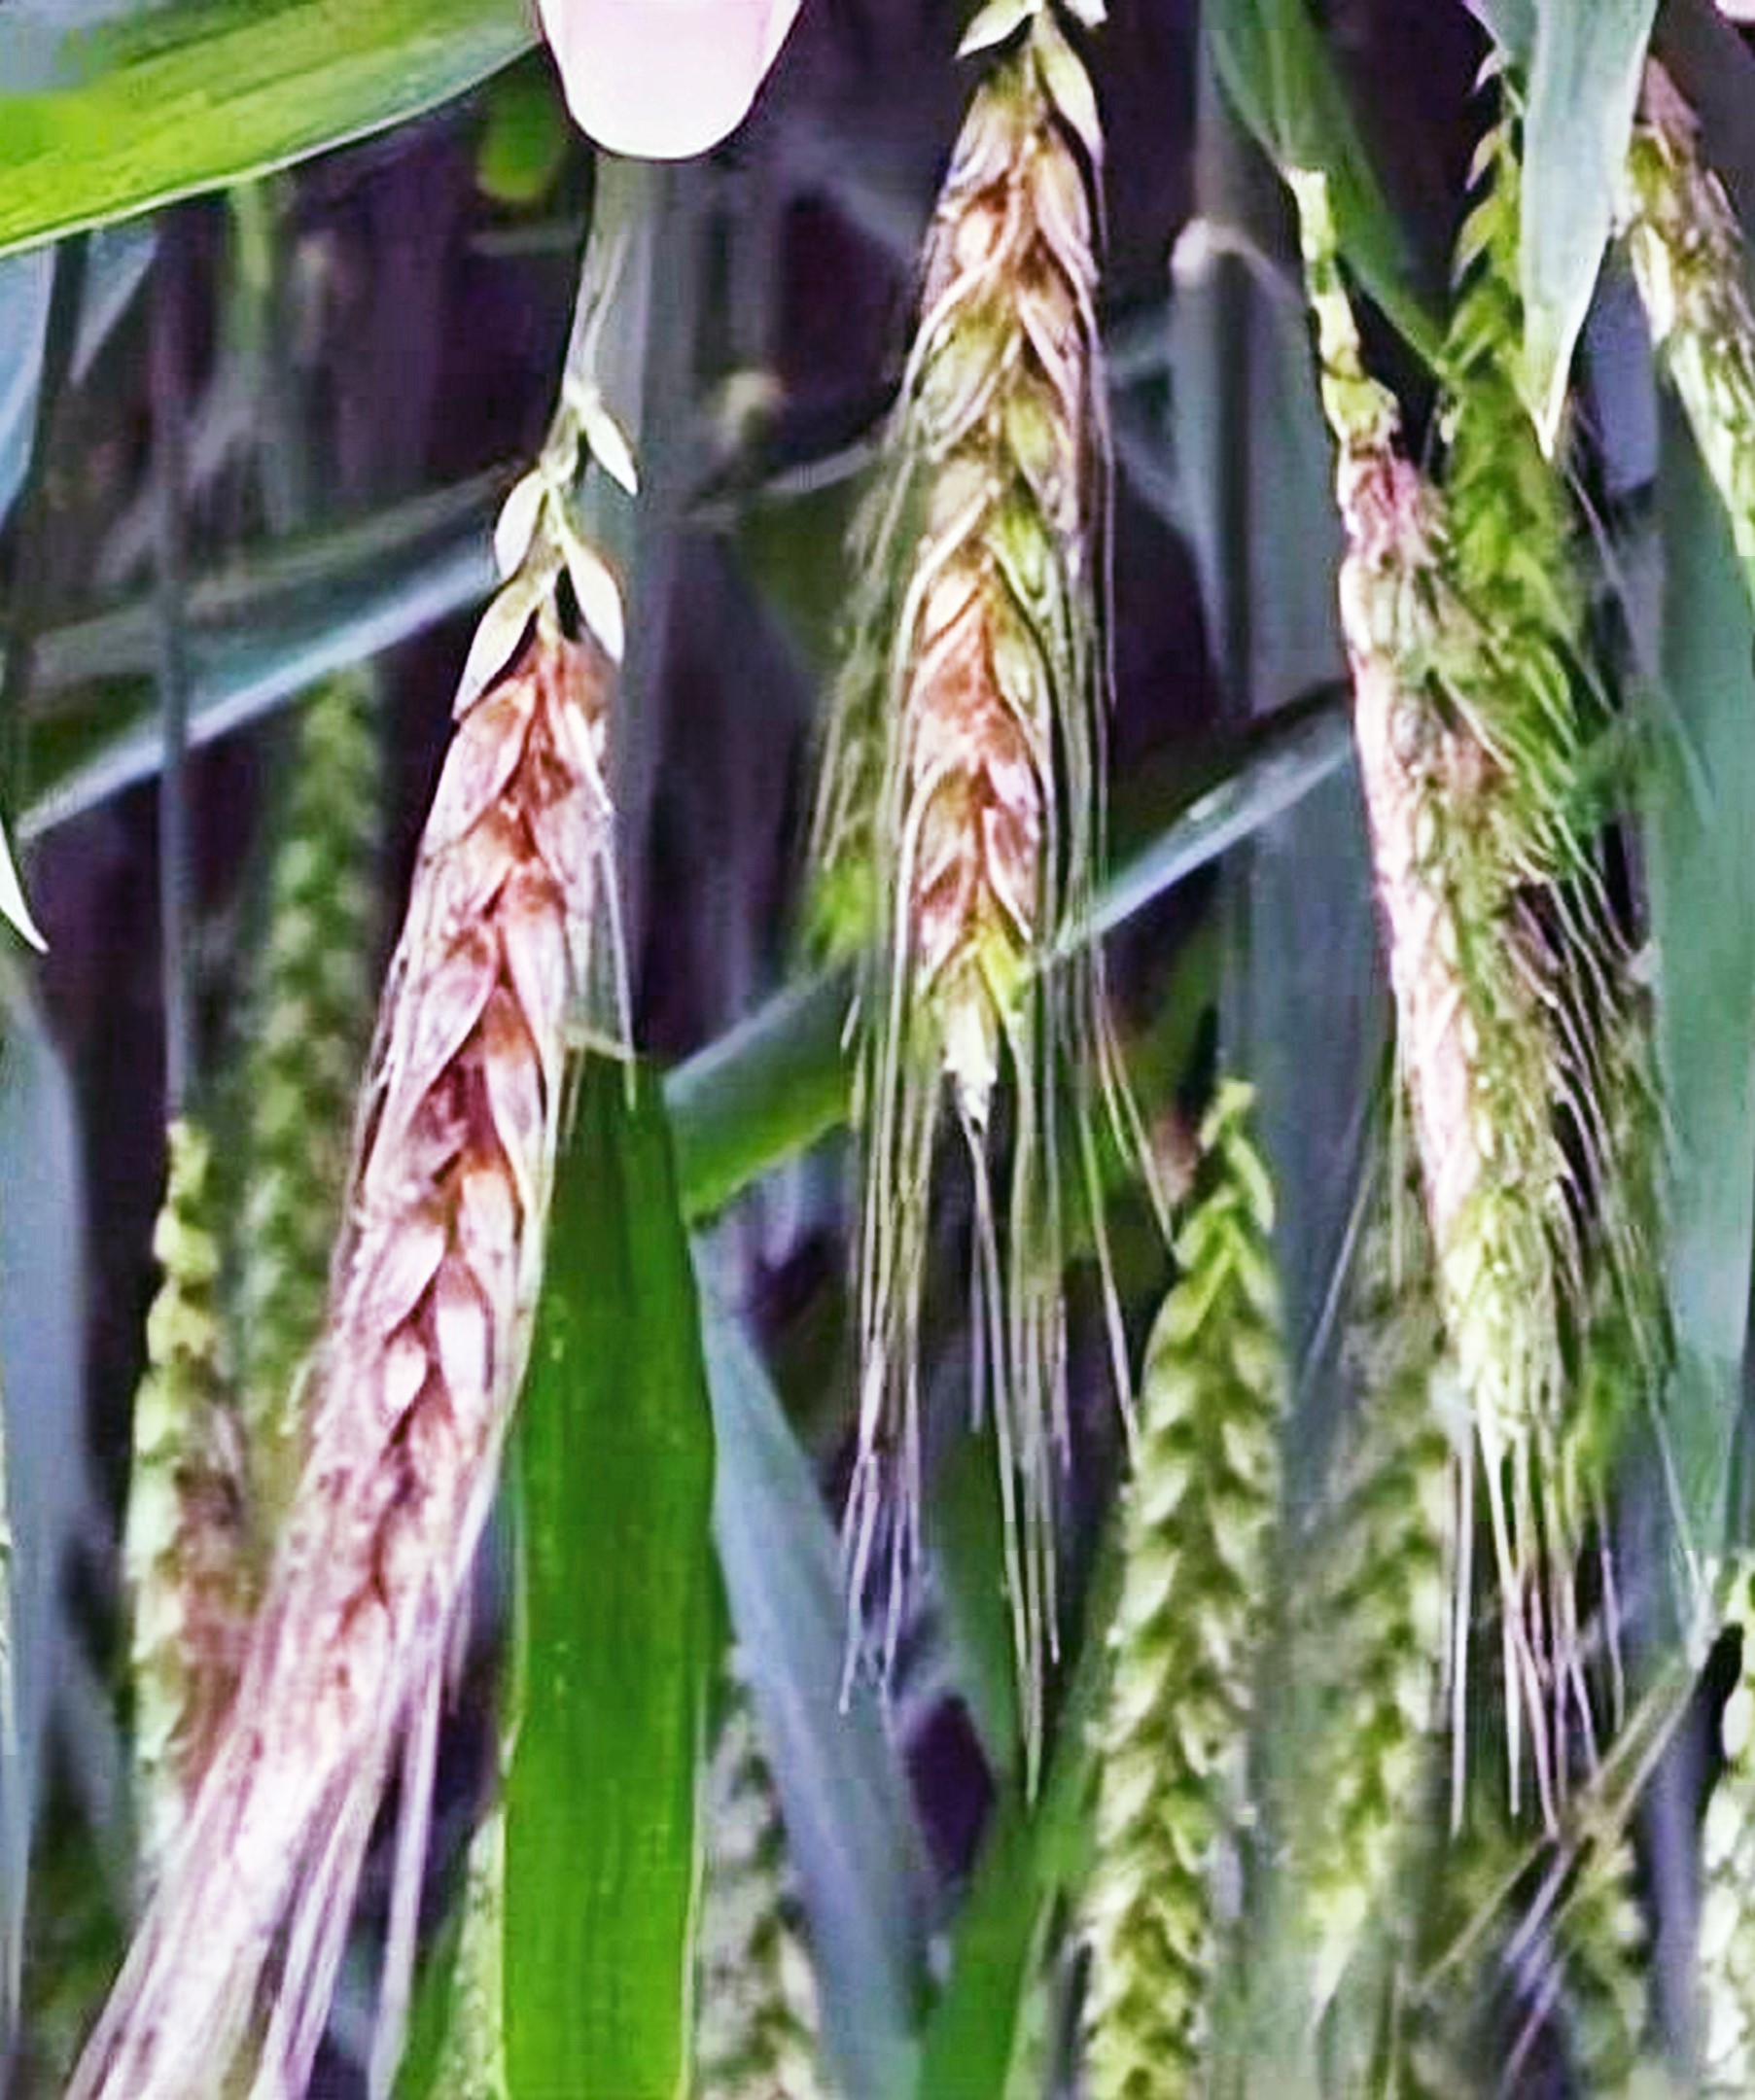Wheat scab: (195, 511, 663, 1875), (806, 35, 1148, 1113)
